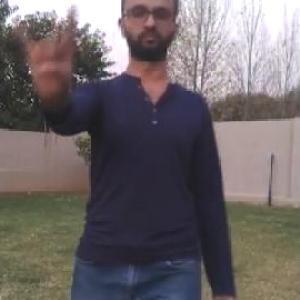takeoff-hand: (8, 1, 79, 89)
